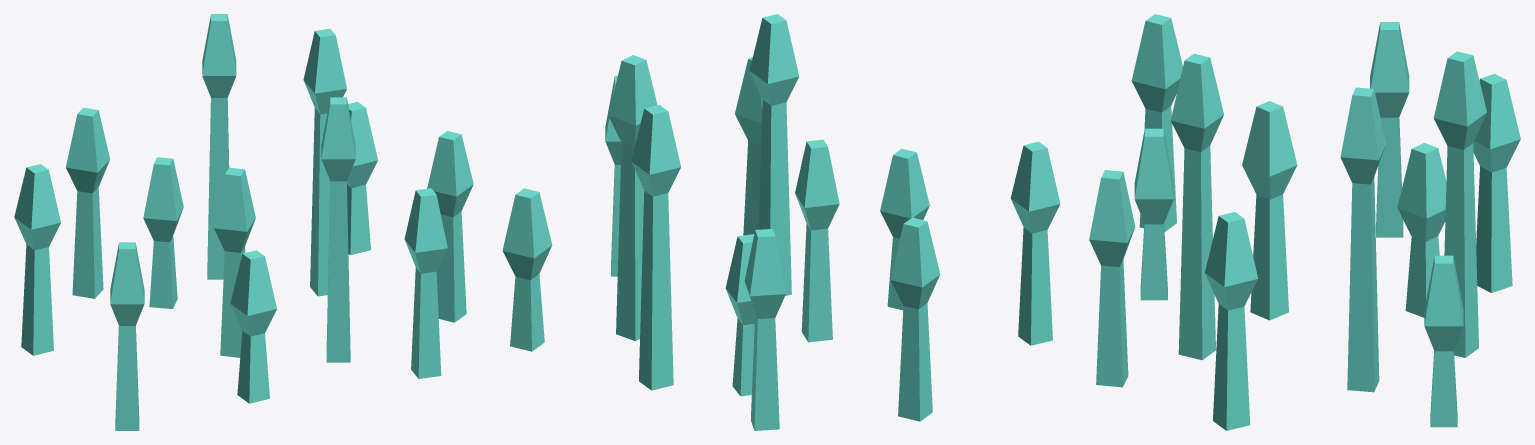
The model's file is kn_crops_wheatstagea.fbx.
3 renders of one model, left to right at view 1: azimuth 30°, elevation 25°; view 2: azimuth 150°, elevation 25°; view 3: azimuth 270°, elevation 25°, orthographic. The views are drawn at different scales.
Parts seen in each view (by area): view 1: kn_crops_wheatstagea_LOD0; view 2: kn_crops_wheatstagea_LOD0; view 3: kn_crops_wheatstagea_LOD0.
Boxes of the visible parts, x1,y1,x2,y2 form: kn_crops_wheatstagea_LOD0: [14, 14, 473, 430]; kn_crops_wheatstagea_LOD0: [502, 14, 1060, 430]; kn_crops_wheatstagea_LOD0: [1089, 14, 1520, 430].
Size of what is drawn, in the model's own units: 1.13 by 0.7 by 0.9336.
Materials: 1 (1 with a texture image).
